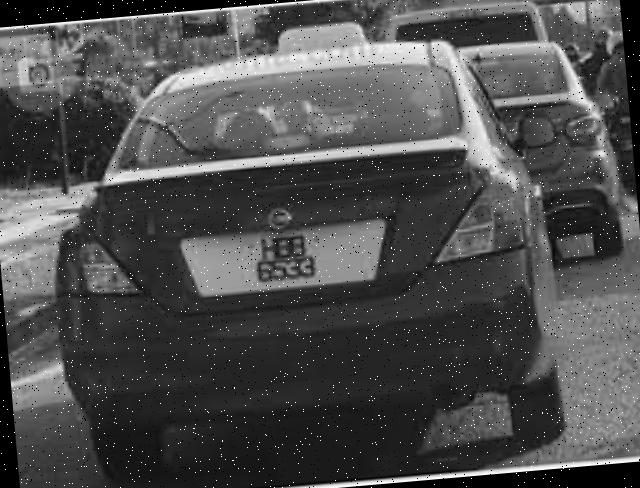License_Plate: (164, 220, 398, 308)
car: (31, 8, 578, 486)
